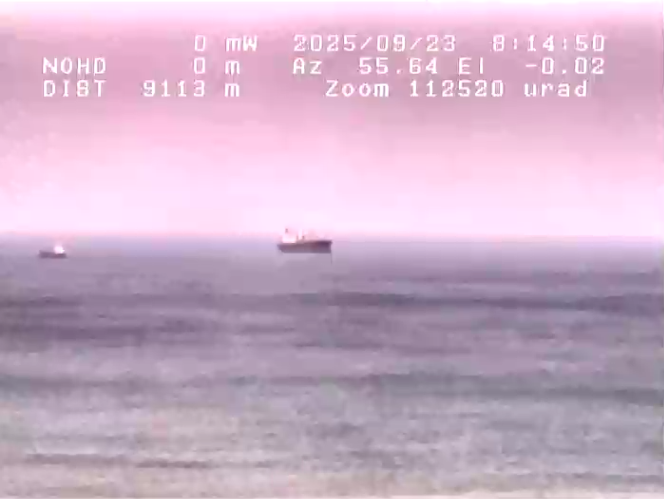TANKER: (268, 221, 342, 258), (32, 234, 71, 265)
